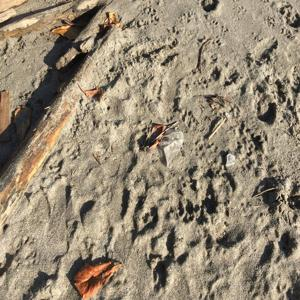plastic: (153, 126, 188, 176), (228, 152, 244, 170)
